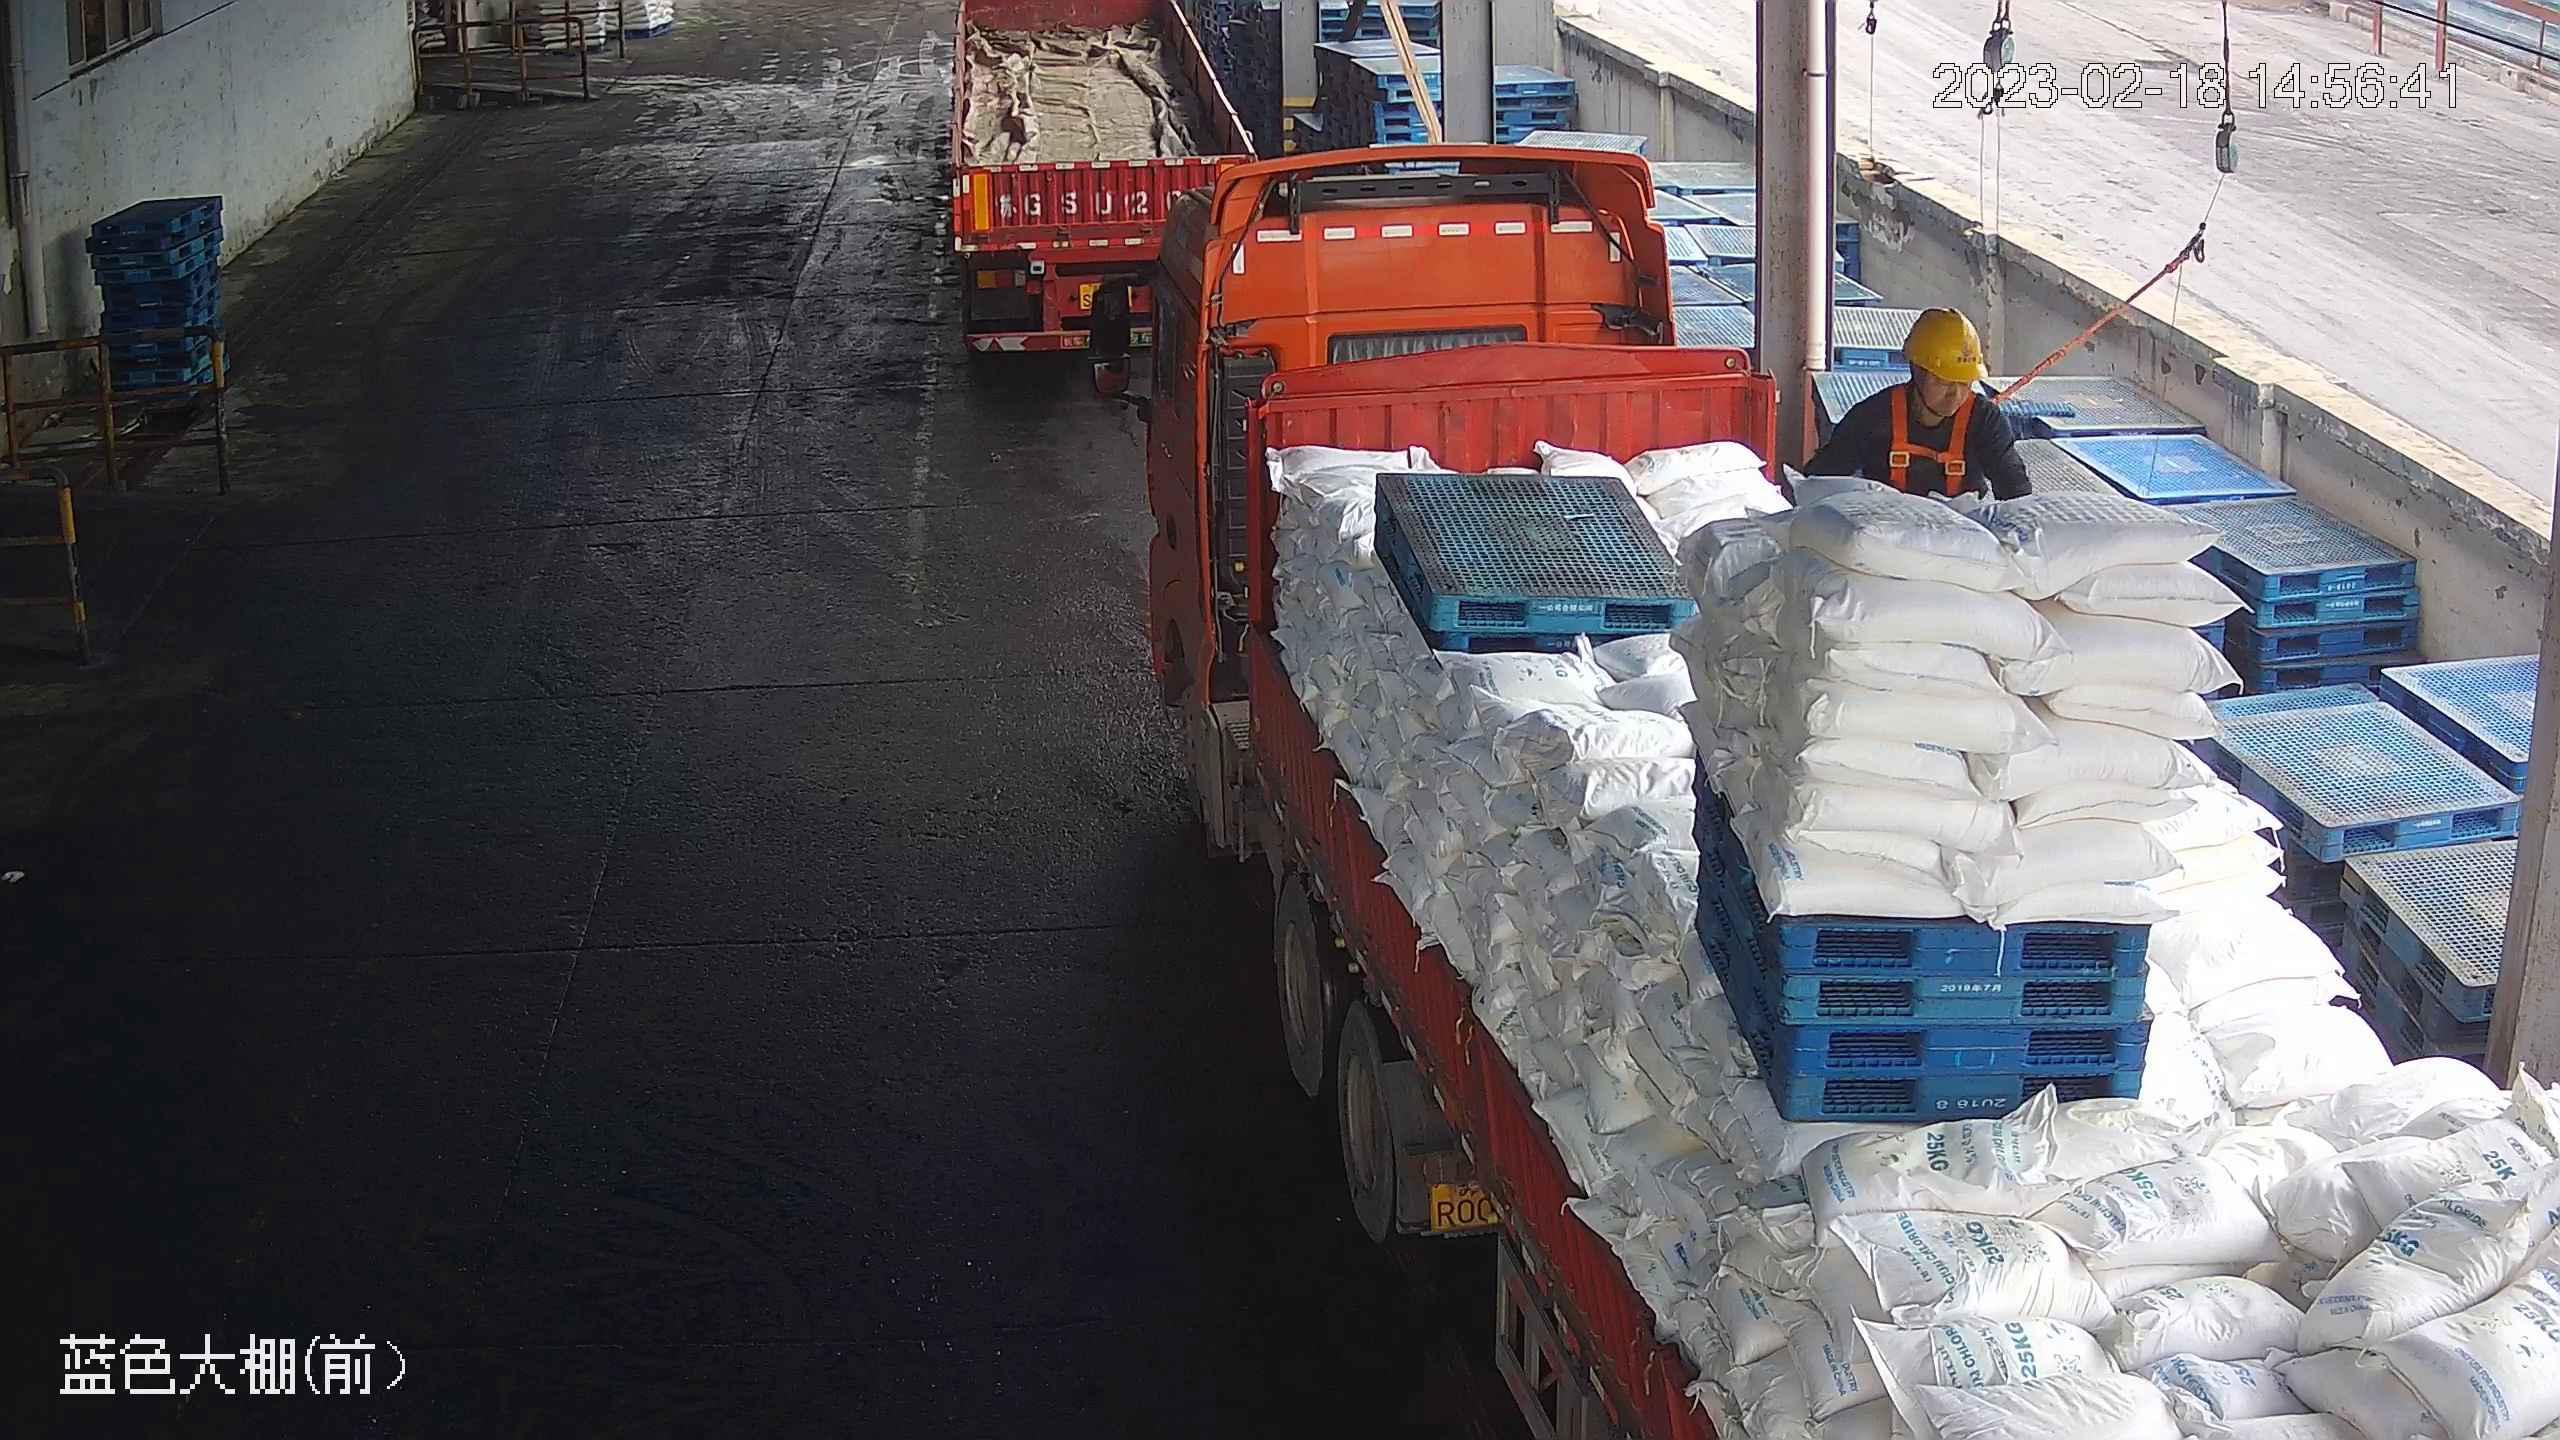belt: (1879, 384, 1986, 502)
head: (1839, 301, 2022, 460)
helmet: (1903, 302, 1987, 382)
truck: (1087, 159, 2555, 1440), (940, 3, 1264, 371)
